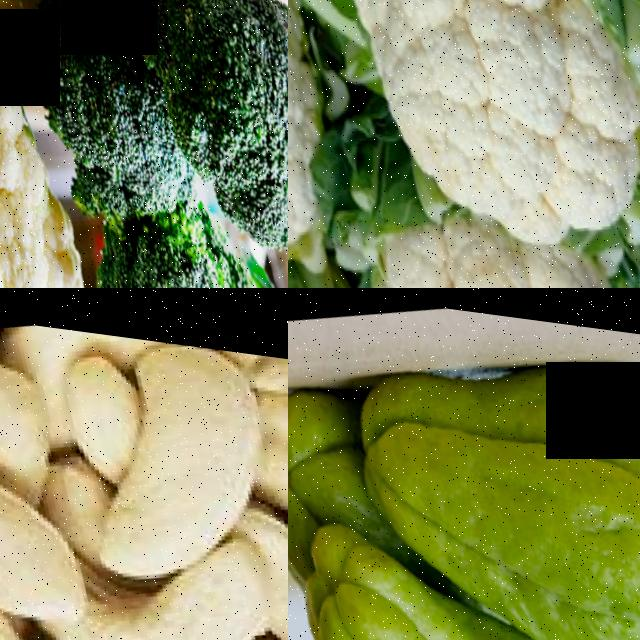broccoli: (10, 0, 288, 288)
cashew: (93, 334, 288, 567), (0, 425, 99, 640), (70, 553, 275, 640), (0, 337, 87, 481)
cauliflower: (319, 0, 640, 240), (336, 172, 640, 288), (0, 0, 122, 288)
chayote: (411, 296, 640, 640)
